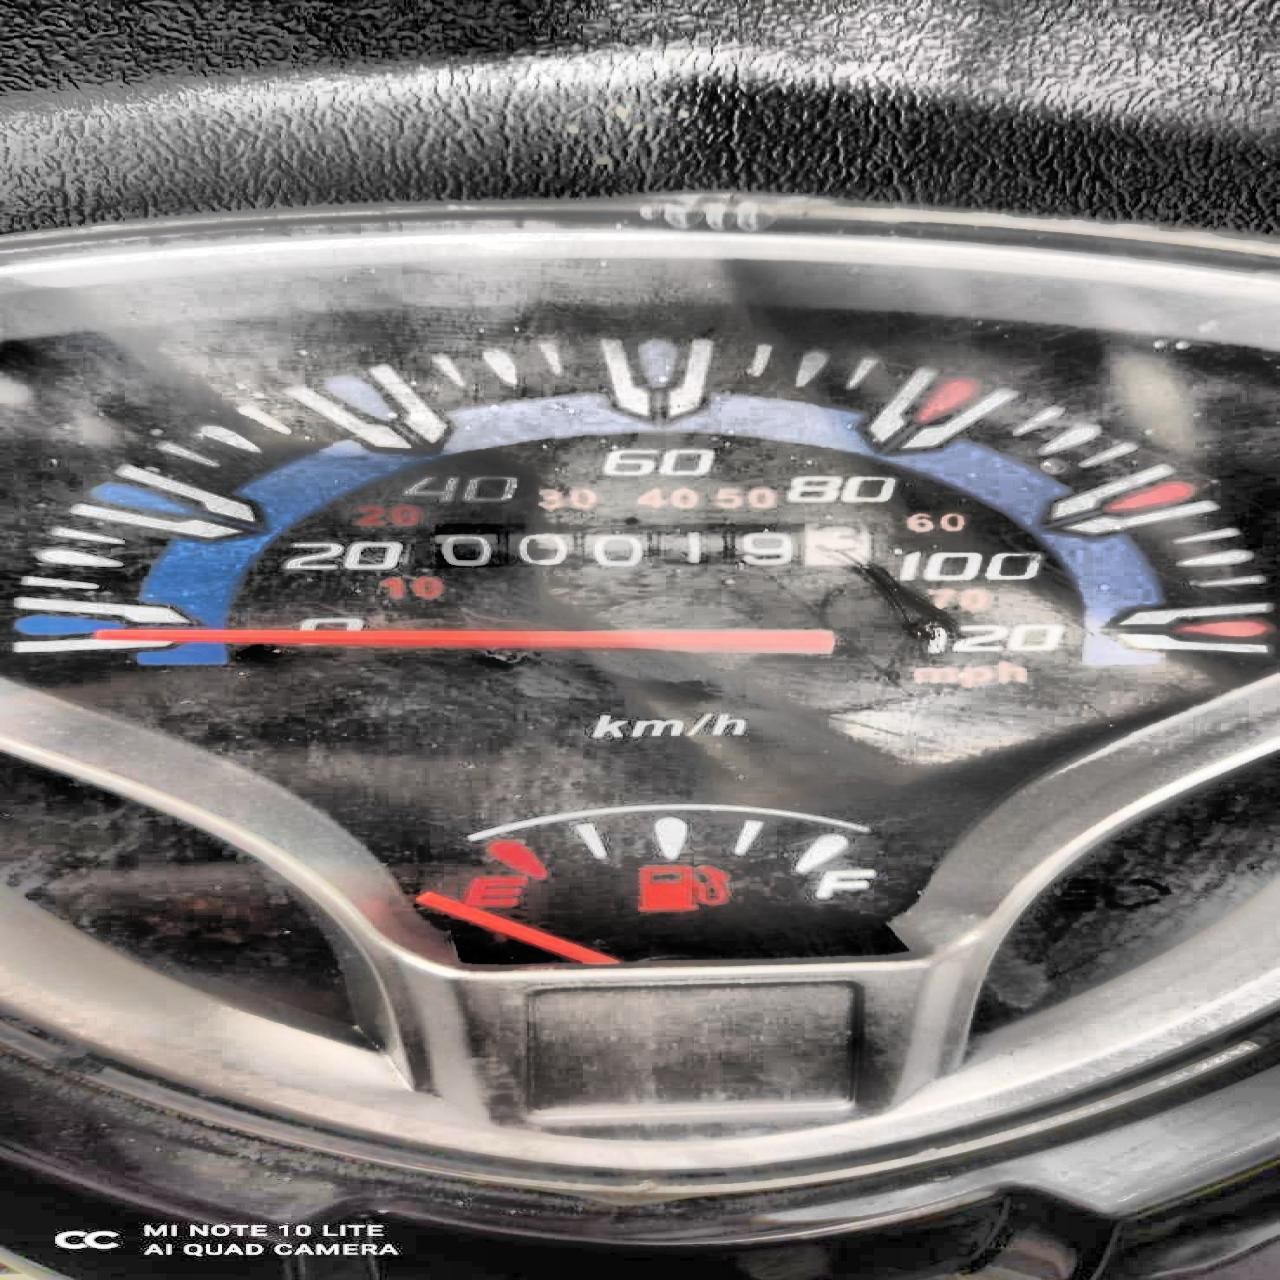0: (433, 531, 498, 566), (510, 531, 571, 566), (590, 532, 645, 567)
1: (672, 527, 713, 565)
3: (809, 523, 871, 559)
9: (731, 527, 796, 566)
odometer: (427, 520, 903, 570)
